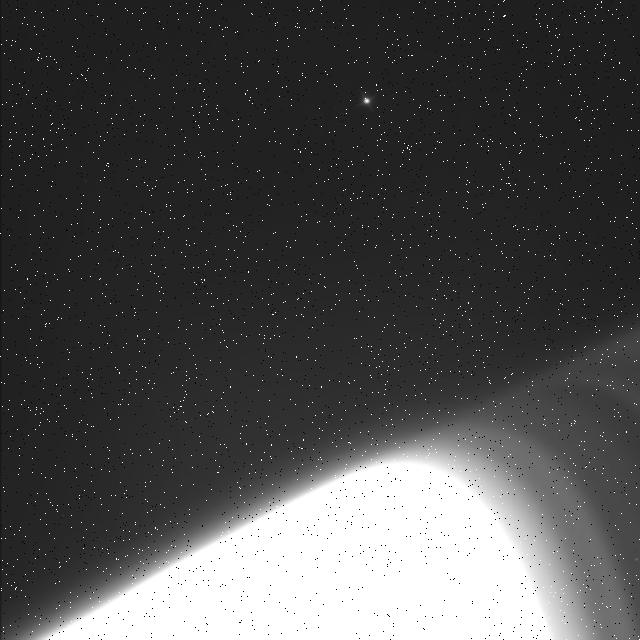Saturn: (0, 302, 640, 640)
